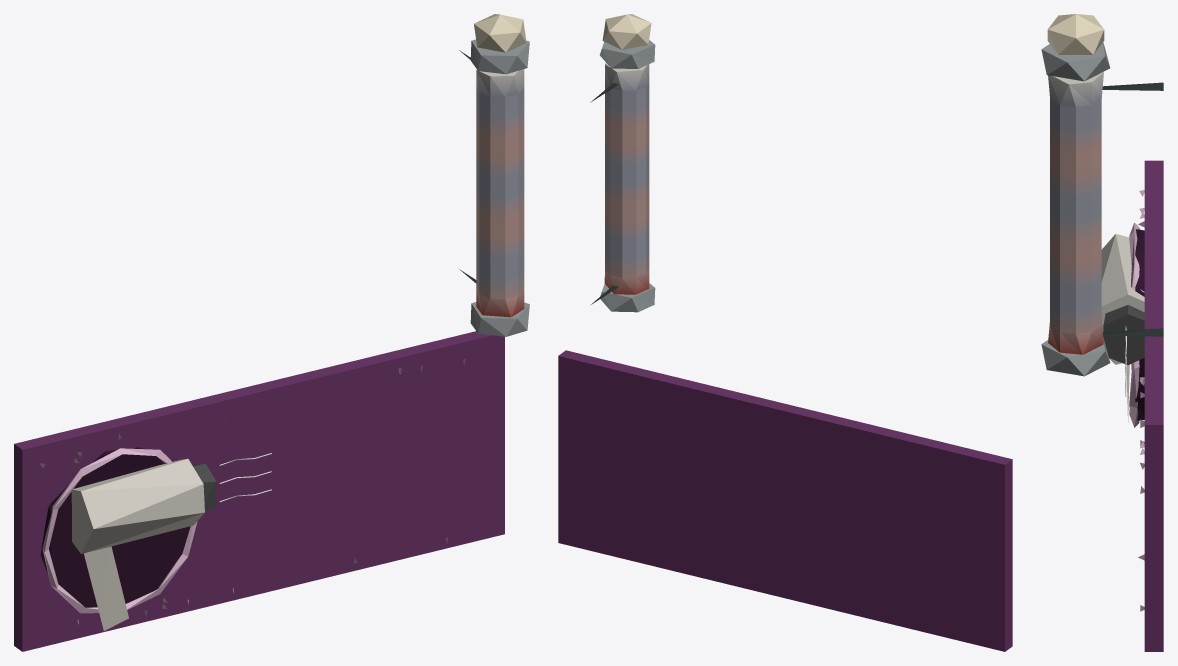
Rendered from bang_salon_toc_my_linh_32.glb.
3 renders of one model, left to right at view 1: azimuth 30°, elevation 25°; view 2: azimuth 150°, elevation 25°; view 3: azimuth 270°, elevation 25°, orthographic. The views are drawn at different scales.
Visible parts, largest first — view 1: bang_salon_toc_my_linh_32; view 2: bang_salon_toc_my_linh_32; view 3: bang_salon_toc_my_linh_32.
Boxes of the visible parts, left/top/right/bottom form: bang_salon_toc_my_linh_32: left=14, top=14, right=529, bottom=651; bang_salon_toc_my_linh_32: left=558, top=14, right=1012, bottom=651; bang_salon_toc_my_linh_32: left=1041, top=14, right=1163, bottom=651.
Bounding box in the file's own units: 3 × 3.27 × 0.5854.
